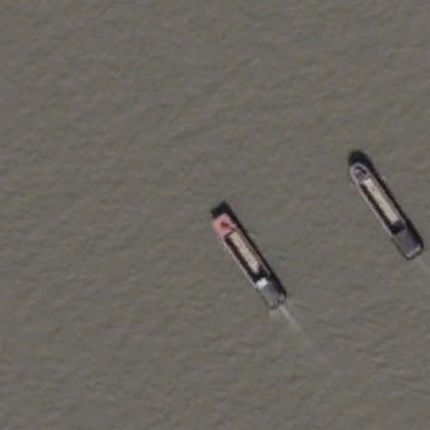boat: (208, 203, 287, 309), (347, 150, 423, 260)
